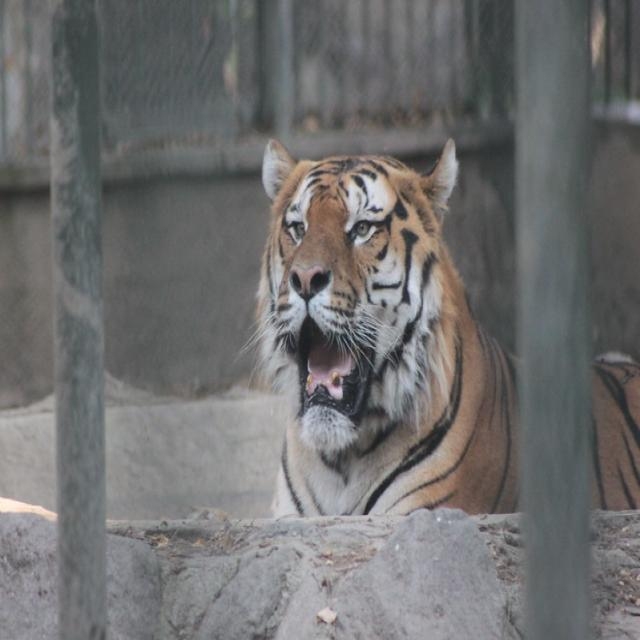Tiger: (240, 110, 506, 540)
